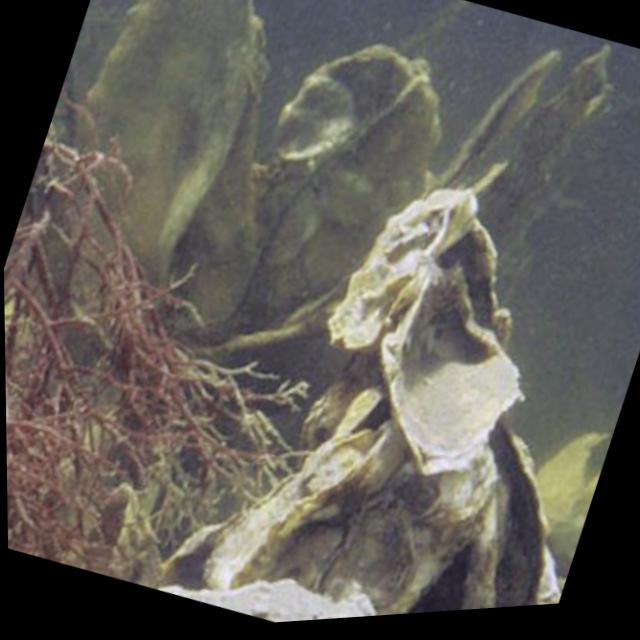Oyster-Closed: (39, 0, 264, 327), (435, 54, 608, 255)
Oyster-Indeterminate: (199, 425, 498, 617), (253, 55, 442, 329), (377, 257, 518, 476), (327, 183, 484, 352), (538, 426, 611, 567)
Oyster-Open: (461, 428, 555, 610)
